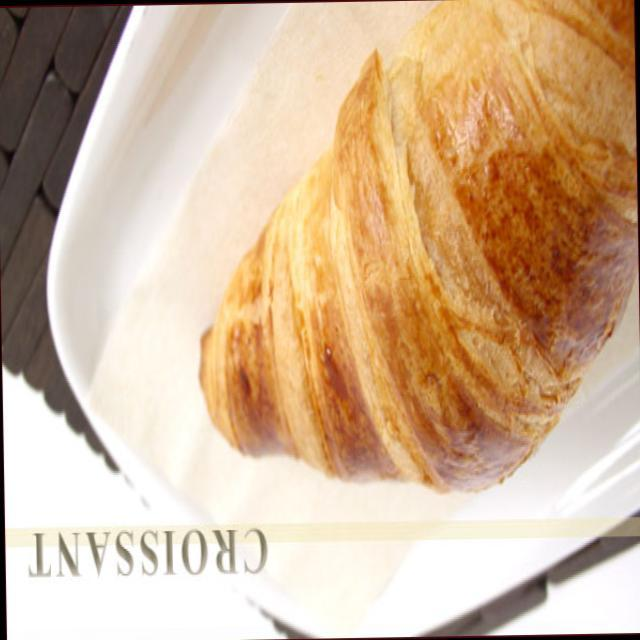Croissant: (178, 0, 640, 509)
